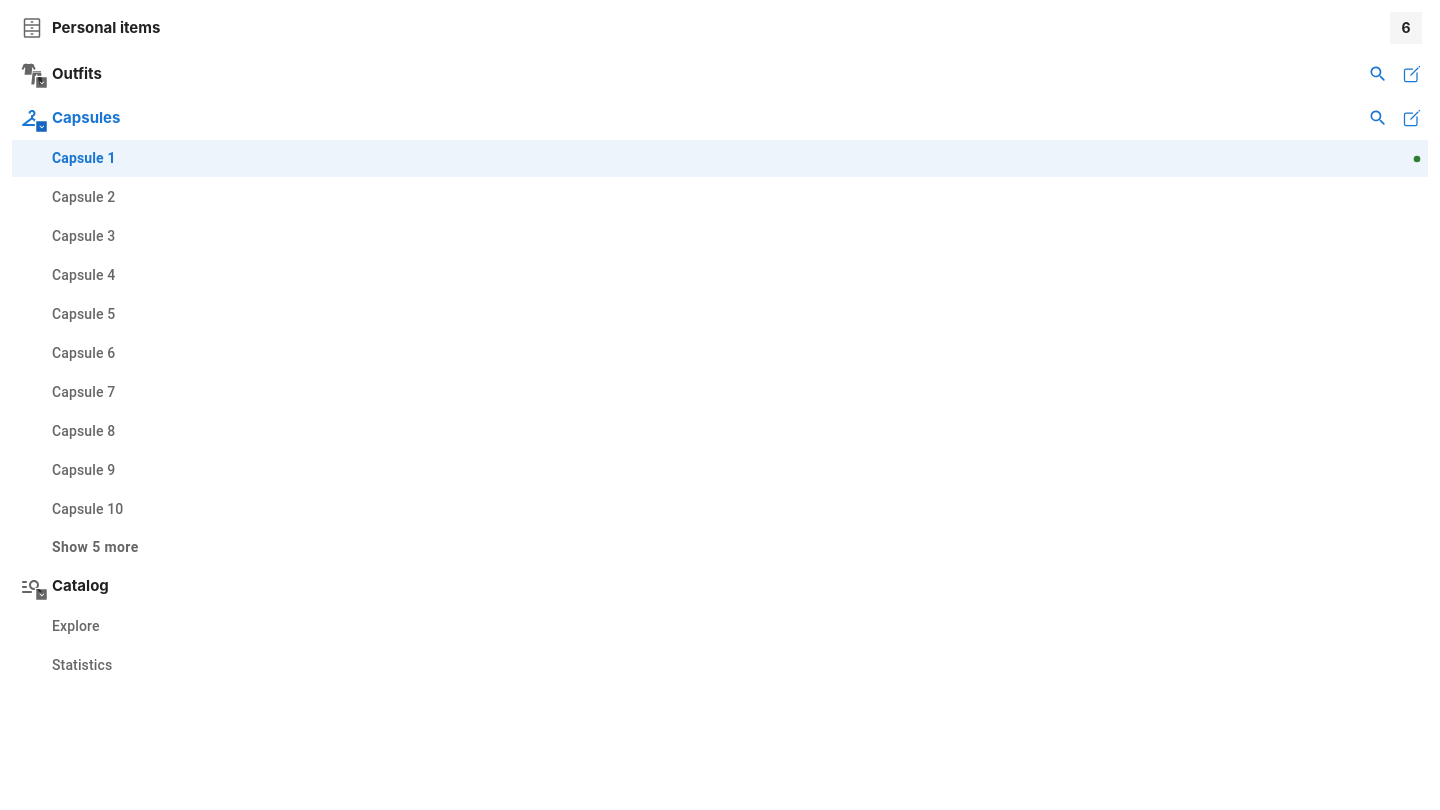
it: AppSidebarNavigation › shows disclosure indicators on expandable top-level icons
Click the button "Capsules".
click(70, 119)  # box [20,106,120,132]
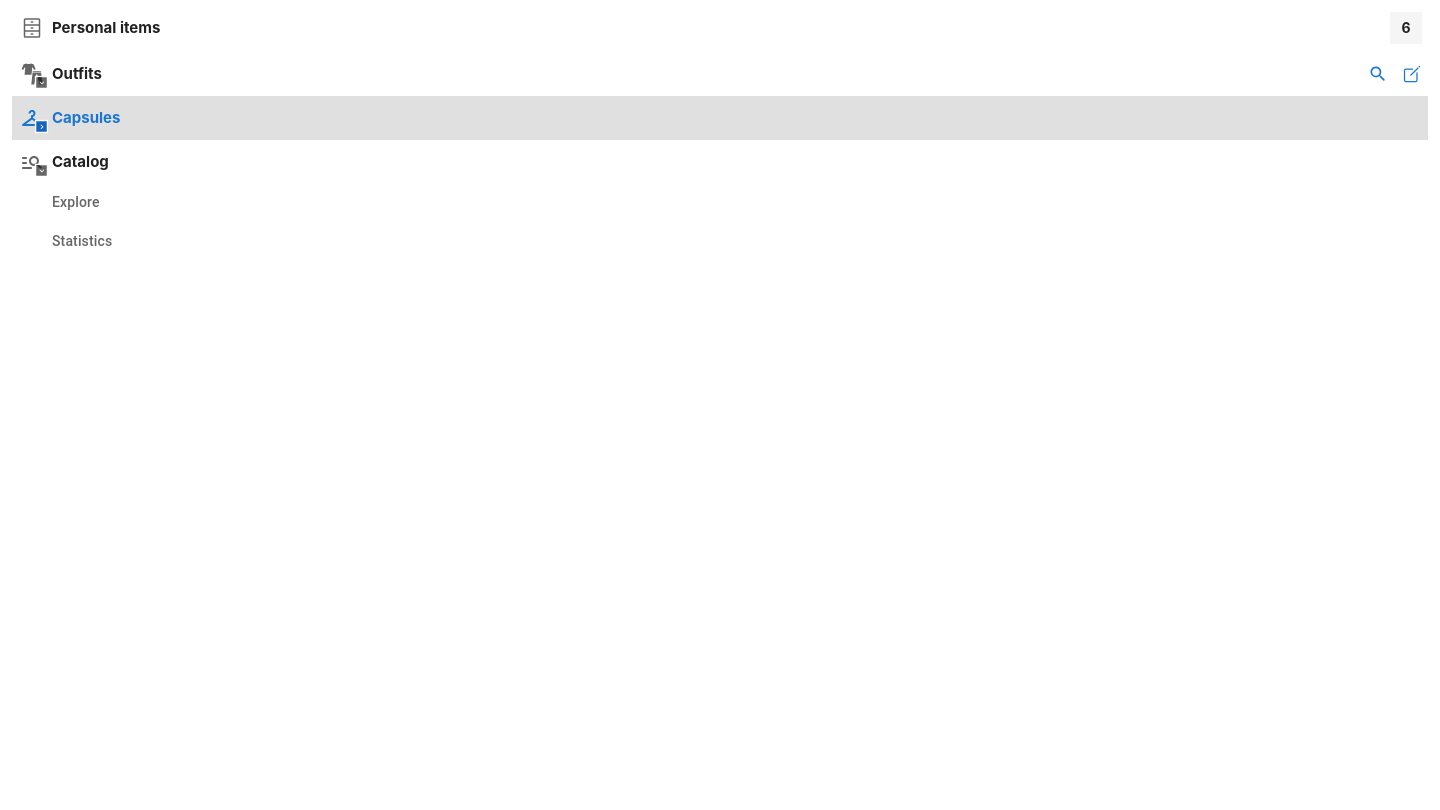
Result: the button "Capsules" is collapsed
Result: the button "Capsule 1" is gone
Result: the button "Show 5 more" is gone
Click the button "Capsules".
click(86, 117)  # box [12,96,1428,140]
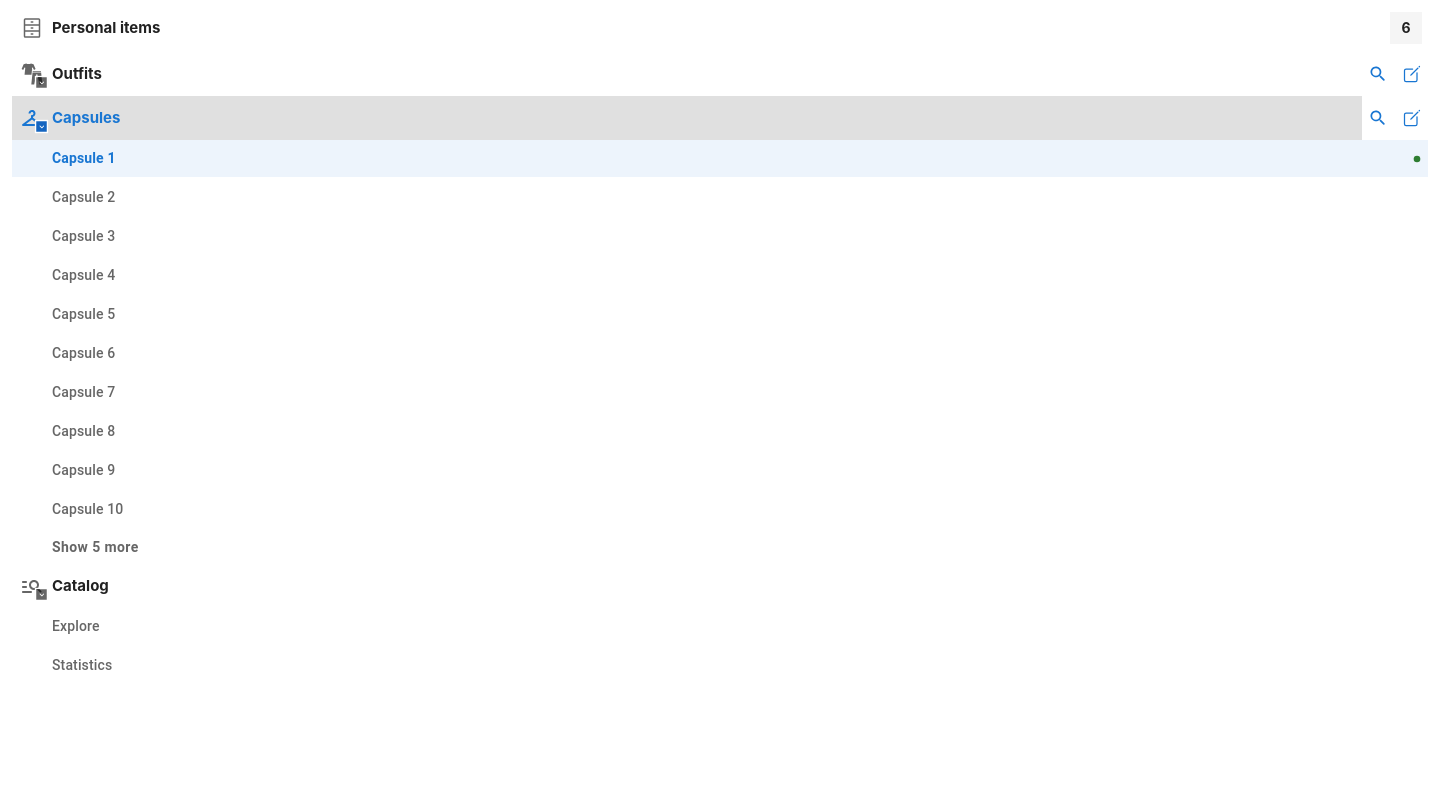
Result: the button named "New capsule" is shown at [1396,102,1428,134]
Result: the button "Capsule 1" is shown at [12,140,1428,177]
Click the button "Catalog".
click(64, 587)  # box [20,574,109,600]
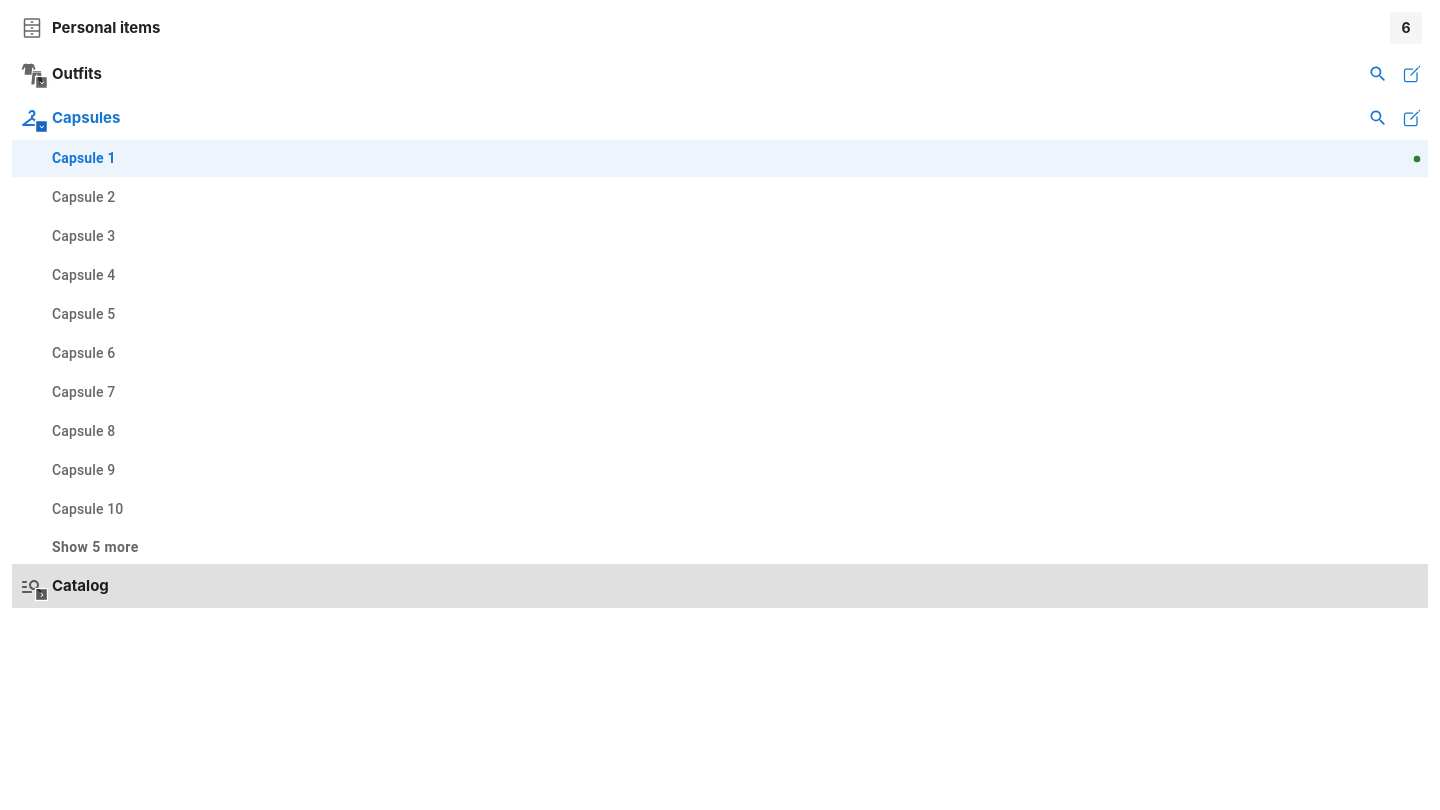
Result: the button "Catalog" is collapsed
Result: the button "Explore" is gone
Result: the button "Statistics" is gone
Click the button "Catalog".
click(80, 585)  # box [12,564,1428,608]
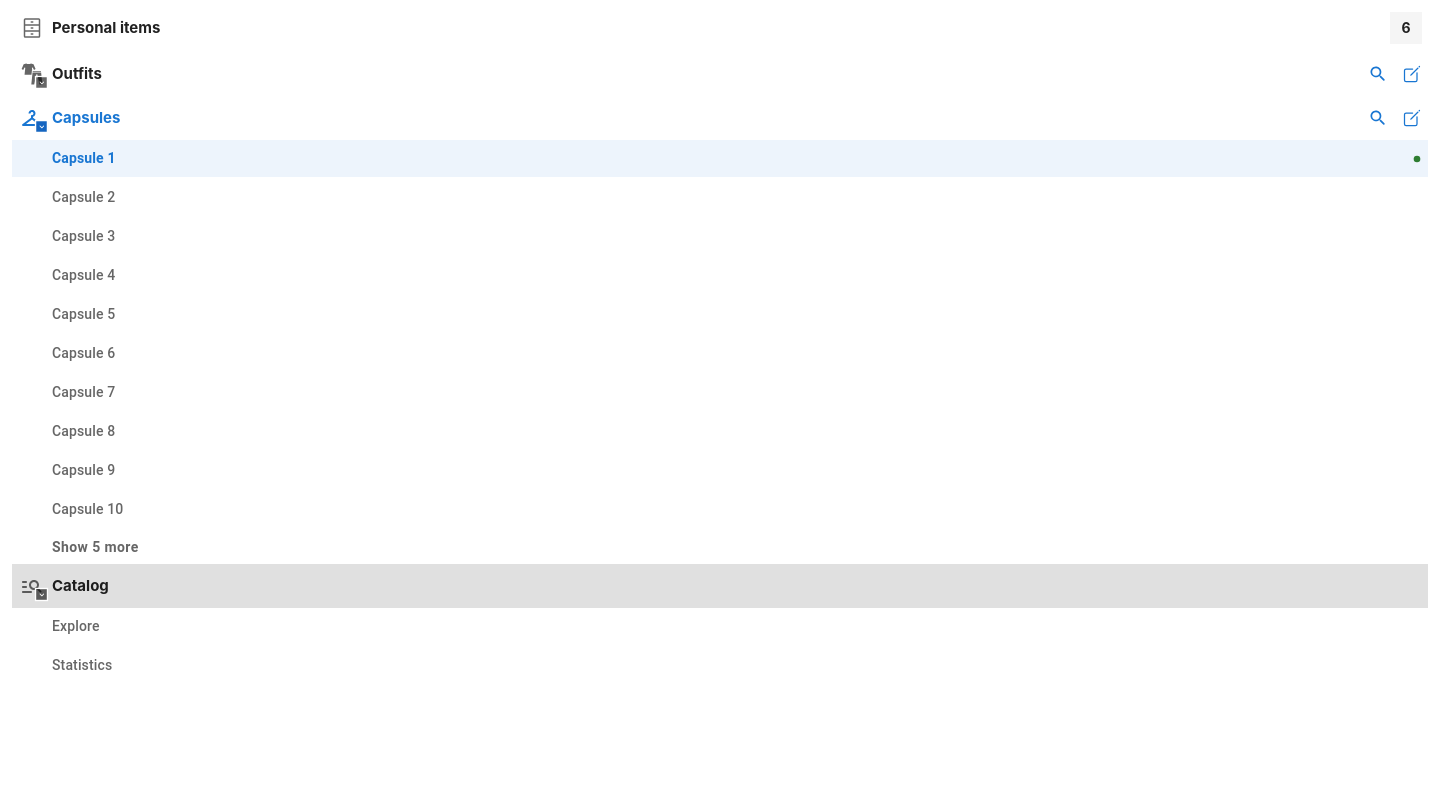
Result: the button "Explore" is shown at [52,618,100,634]
Result: the button "Statistics" is shown at [52,657,112,673]
Click the button "Outfits".
click(61, 75)  # box [20,62,102,88]
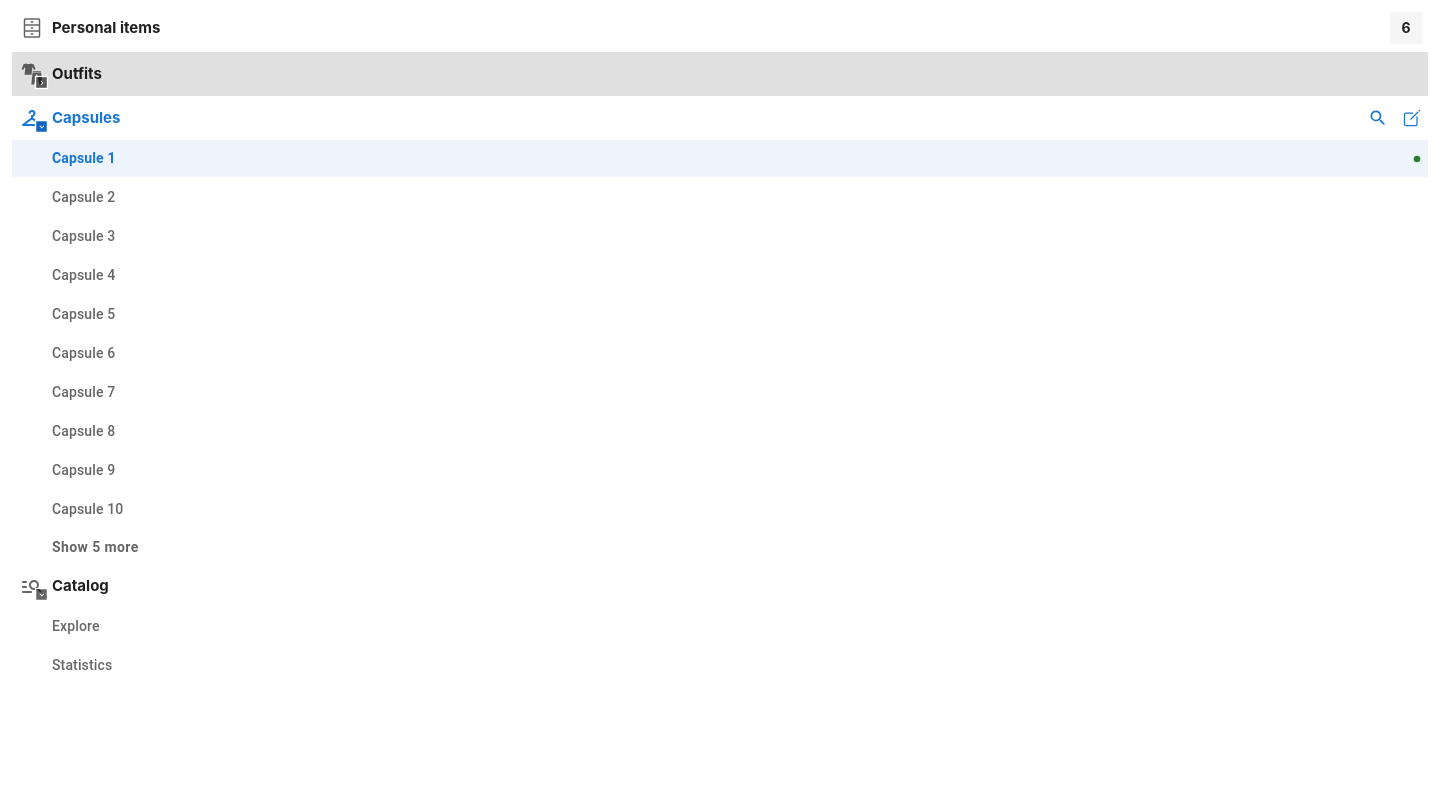
Result: the button "Outfits" is collapsed
Click the button "Outfits".
click(77, 73)  # box [12,52,1428,96]
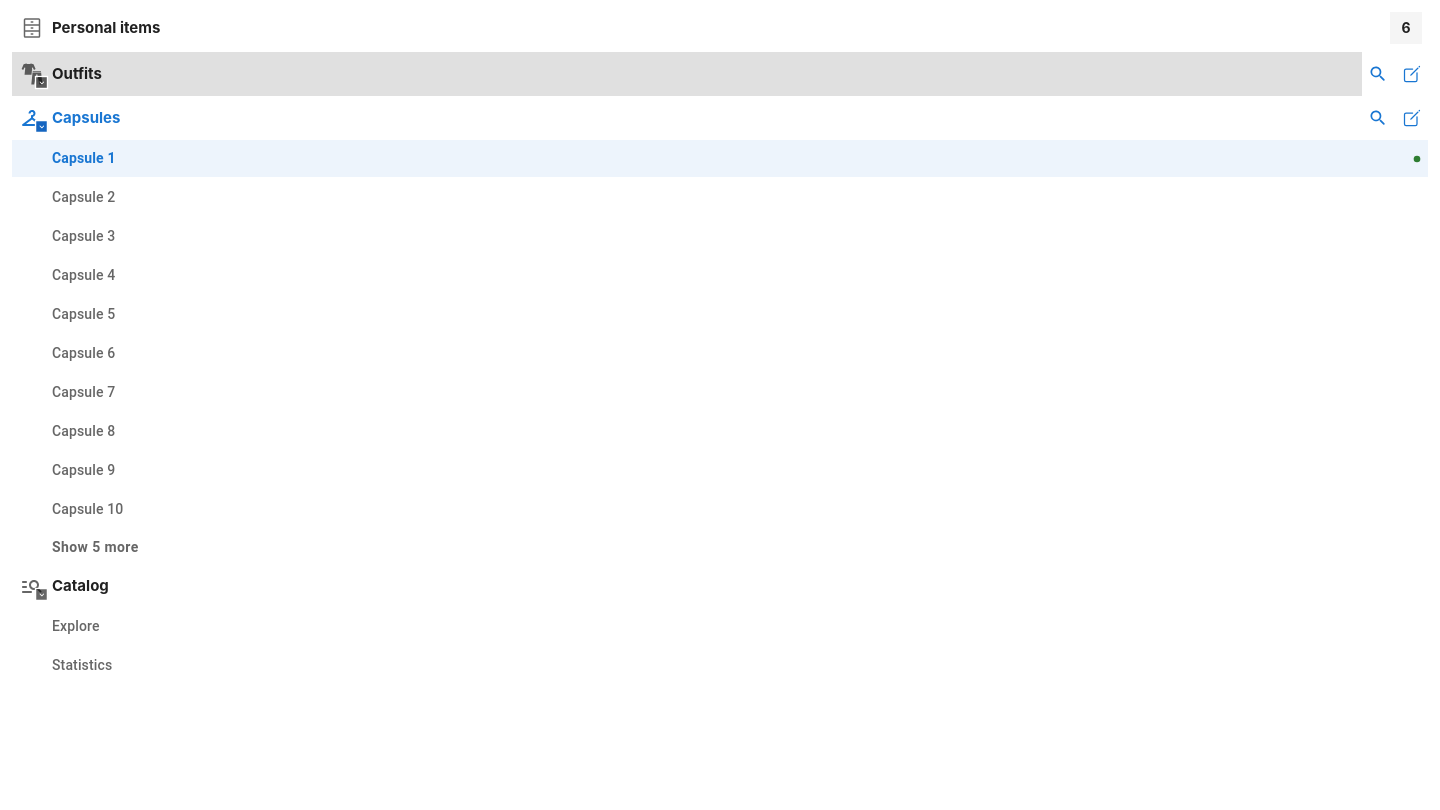
Result: the button named "Search outfits" is enabled at [1362,58,1394,90]
Result: the button named "New outfit" is enabled at [1396,58,1428,90]
